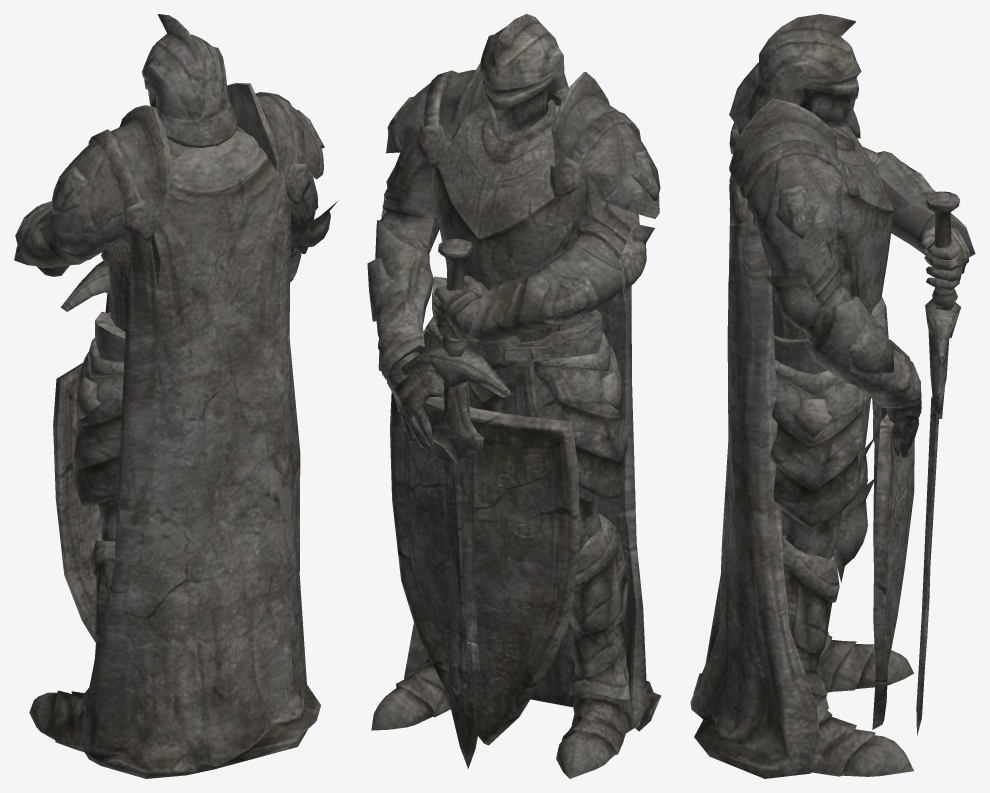
The model's file is eso_gu4_Statue-transformed.glb.
The picture shows the model from 3 angles, left to right: view 1: azimuth 30°, elevation 25°; view 2: azimuth 150°, elevation 25°; view 3: azimuth 270°, elevation 25°; orthographic projection.
Parts seen in each view (by area): view 1: default; view 2: default; view 3: default.
Part boxes in pixels (left/top/right/bottom): default: left=14, top=14, right=338, bottom=778; default: left=367, top=14, right=661, bottom=778; default: left=690, top=14, right=975, bottom=778.
Size of the model in its own units: 1.96 by 4.83 by 1.73.
Materials: 1 (1 with a texture image).
